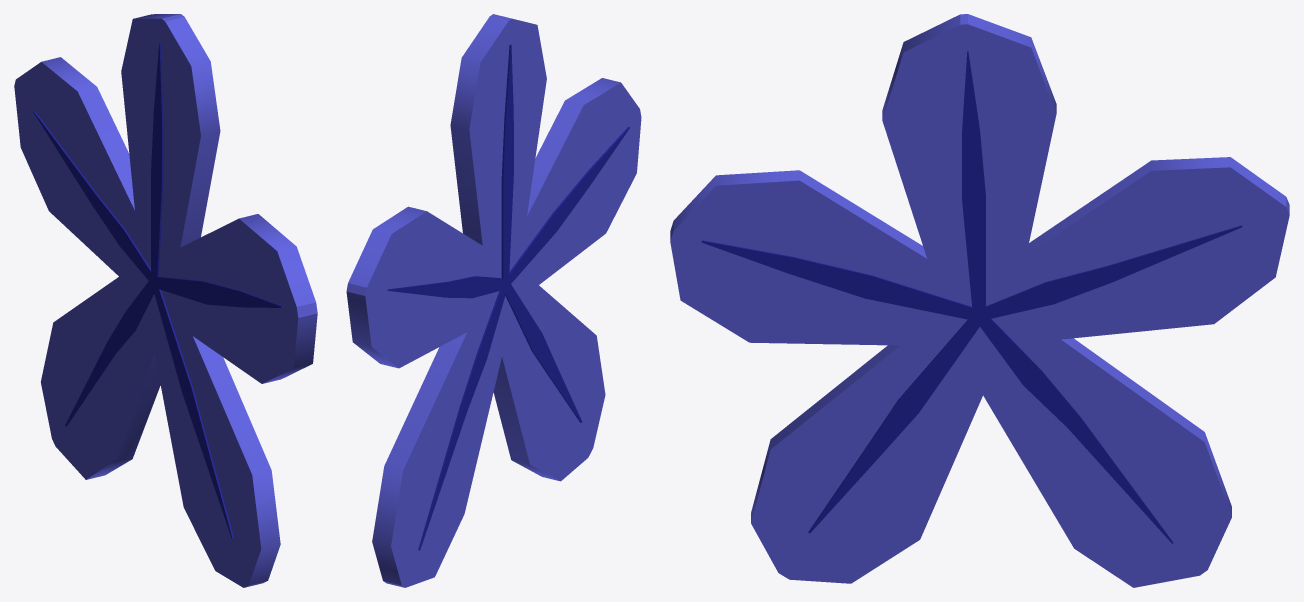
Rendered from Semente.fbx.
3 renders of one model, left to right at view 1: azimuth 30°, elevation 25°; view 2: azimuth 150°, elevation 25°; view 3: azimuth 270°, elevation 25°, orthographic. The views are drawn at different scales.
Visible parts, largest first — view 1: pCylinder13, pCylinder14; view 2: pCylinder13, pCylinder14; view 3: pCylinder13, pCylinder16.
Part boxes in pixels (<box>): pCylinder13: <box>14,14,317,587</box>; pCylinder14: <box>33,43,282,538</box>; pCylinder13: <box>346,14,641,587</box>; pCylinder14: <box>387,44,629,550</box>; pCylinder13: <box>670,14,1289,587</box>; pCylinder16: <box>701,51,1242,543</box>.
Bounding box in the file's own units: 3.03 × 62.98 × 62.74.
